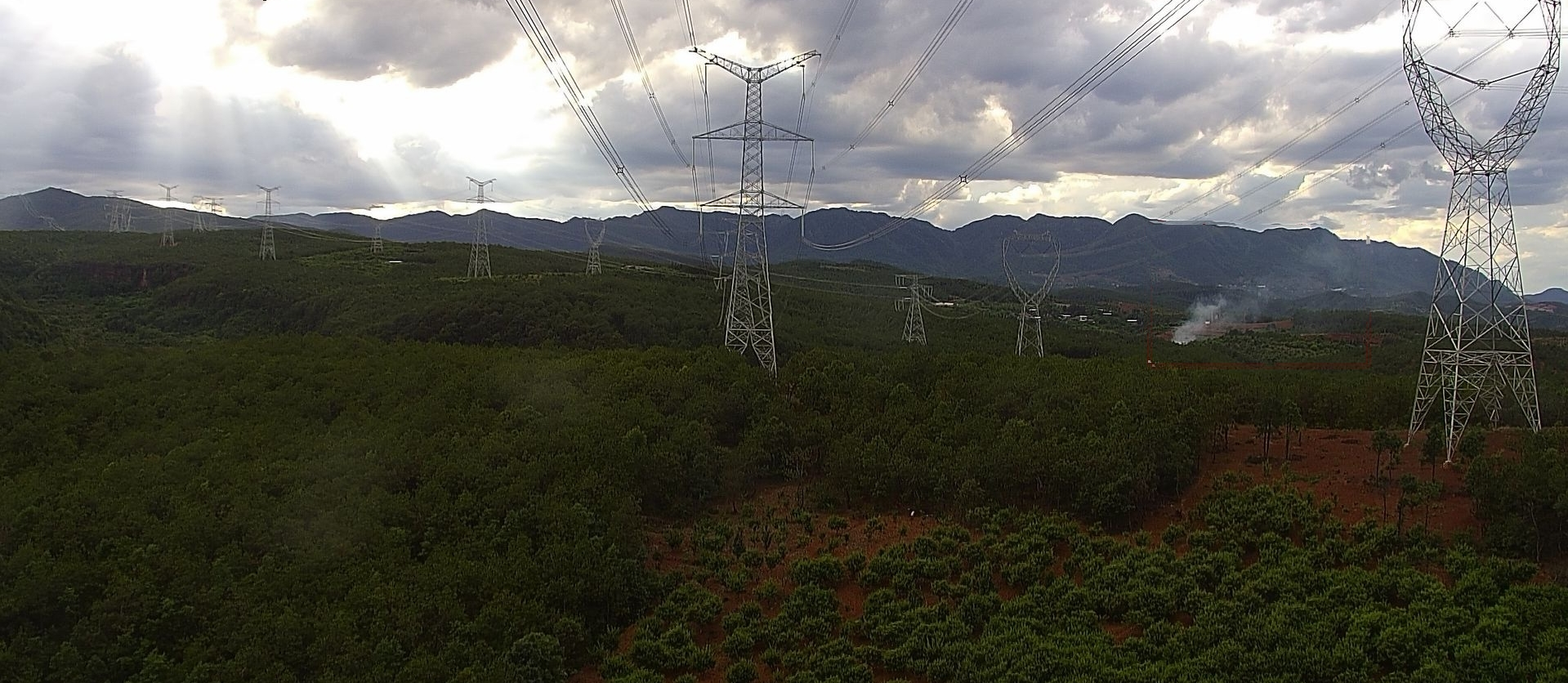烟雾: (1170, 273, 1275, 345)
